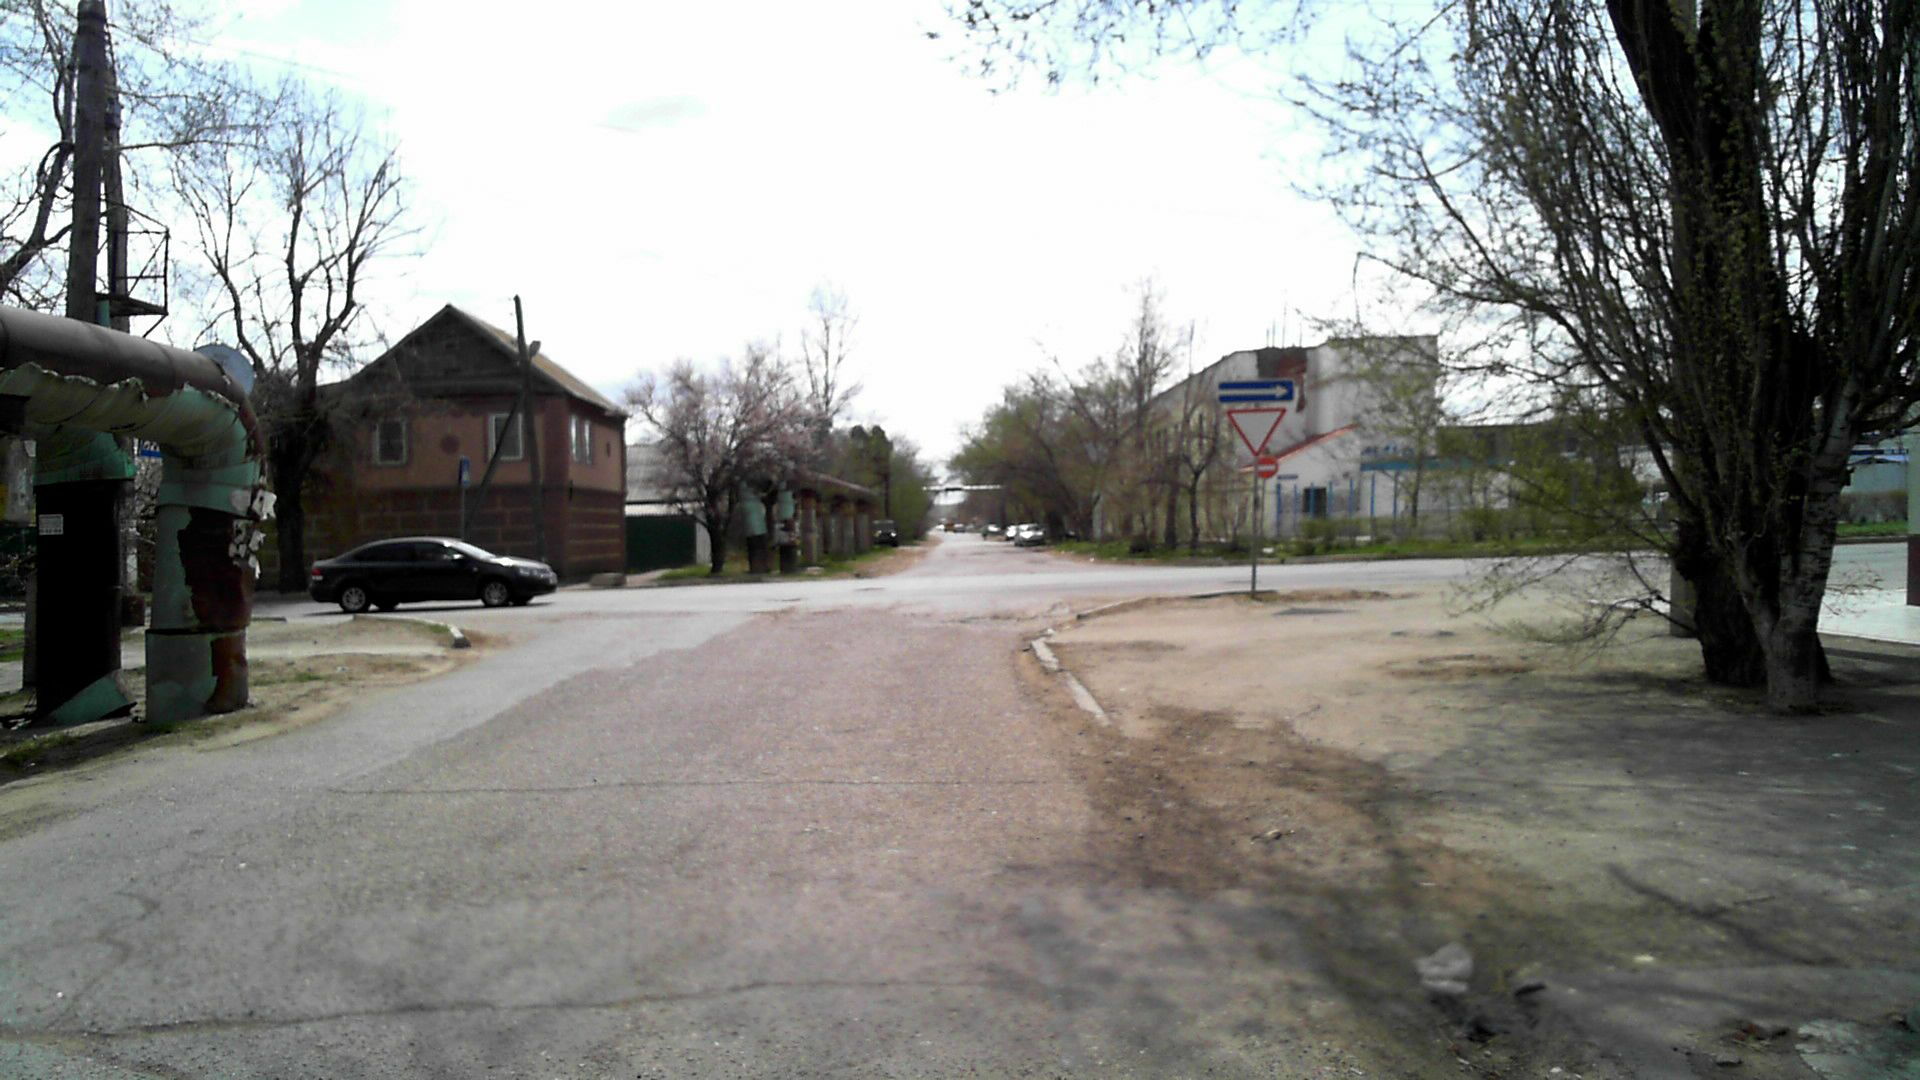One-Way Traffic: (1218, 380, 1294, 402)
